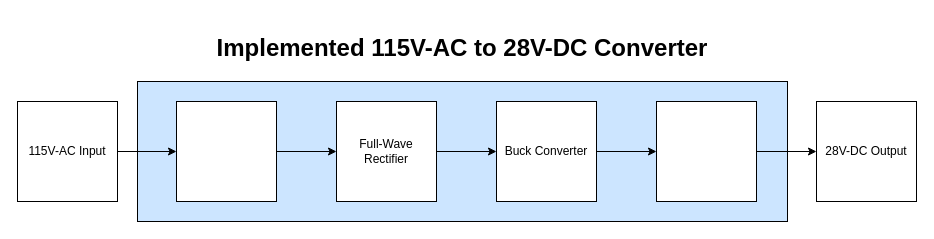
Image size: 934x239. Some labels were removed from this diagram. Here are the shapes that lost their labels. From the top down, the box of each, then its label:
(176, 100, 276, 202): Input Filter
(656, 100, 756, 202): Output Filter
